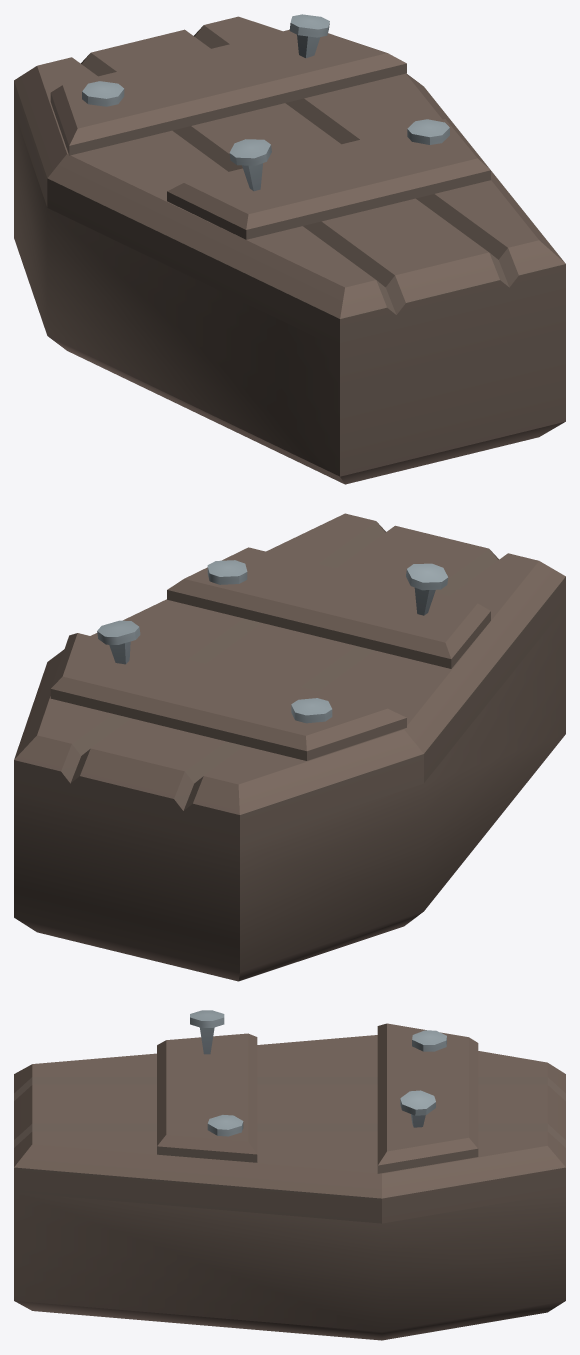
File: coffin.glb
3 views of the same model, one above another, from view 1: azimuth 30°, elevation 25°; view 2: azimuth 150°, elevation 25°; view 3: azimuth 270°, elevation 25° (orthographic). The views are drawn at different scales.
Parts seen in each view (by area): view 1: coffin_lid, coffin; view 2: coffin_lid, coffin; view 3: coffin_lid, coffin.
Boxes of the visible parts, x1,y1,x2,y2 form: coffin_lid: [14, 14, 565, 348]; coffin: [14, 110, 565, 484]; coffin_lid: [14, 513, 565, 844]; coffin: [14, 606, 565, 981]; coffin_lid: [14, 1010, 565, 1223]; coffin: [14, 1192, 565, 1340].
Size of the model in its own units: 2 by 1.32 by 3.
1 material, 1 textured.
